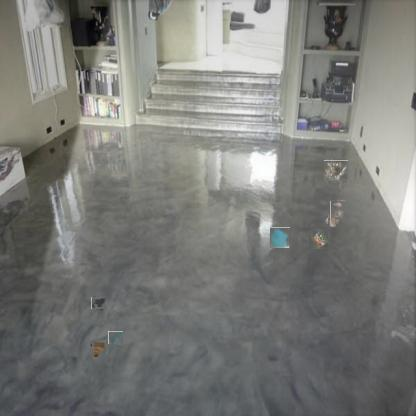dirty: (325, 160, 348, 182), (270, 227, 291, 248), (308, 229, 328, 249), (330, 200, 345, 218), (92, 340, 108, 356), (326, 214, 338, 226)
liquid: (108, 330, 123, 344), (92, 297, 106, 310)
